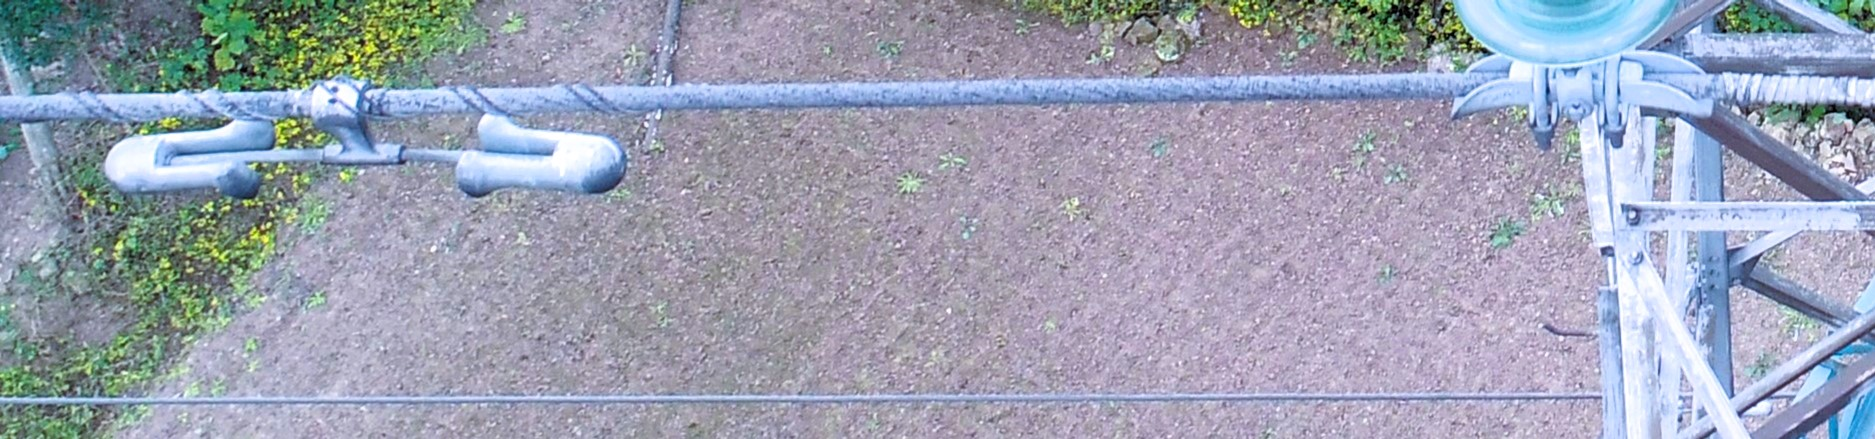Shockproof hammer: (91, 48, 641, 208)
